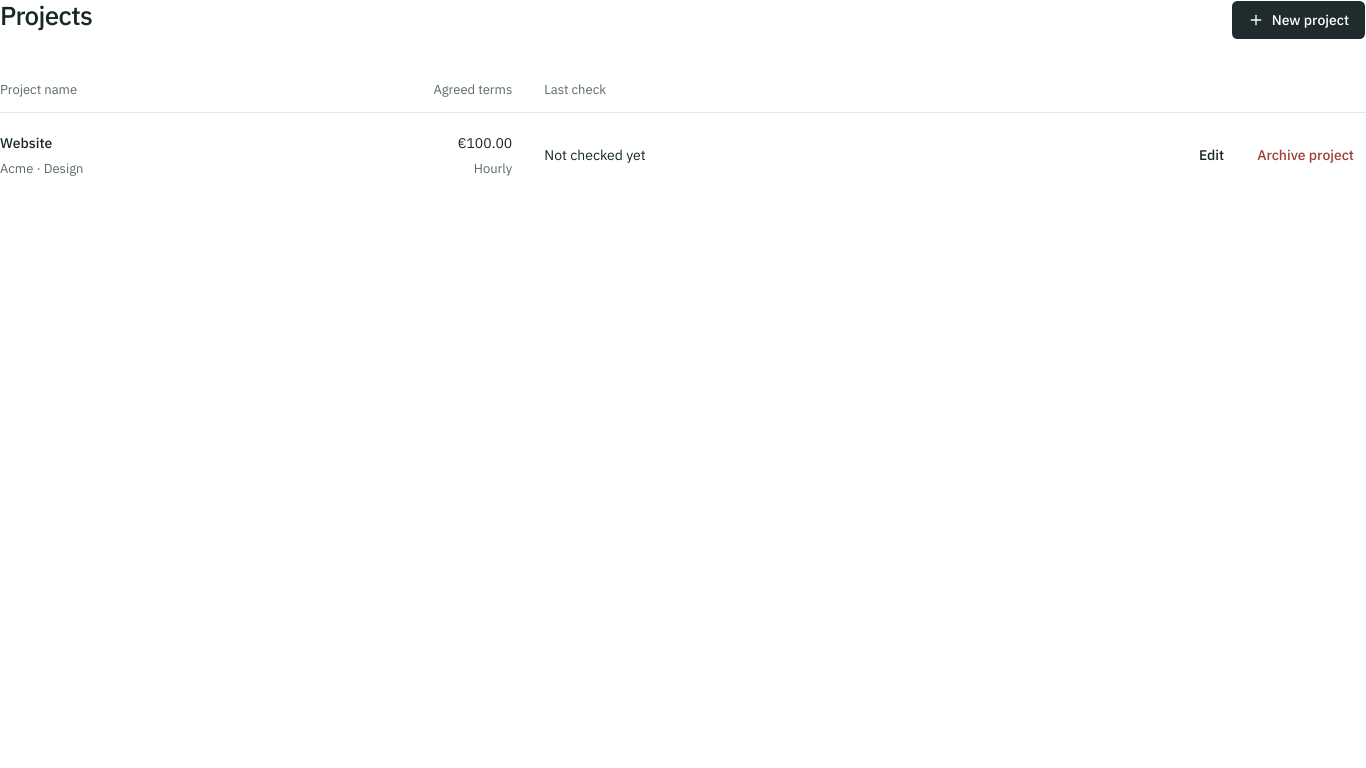
Scenario: disables confirmation while pending and shows a localized error with retry
Later steps or results of the test are not shown.
Click the button "Archive project" at (1306, 155), box x1=1245 y1=137 x2=1365 y2=173
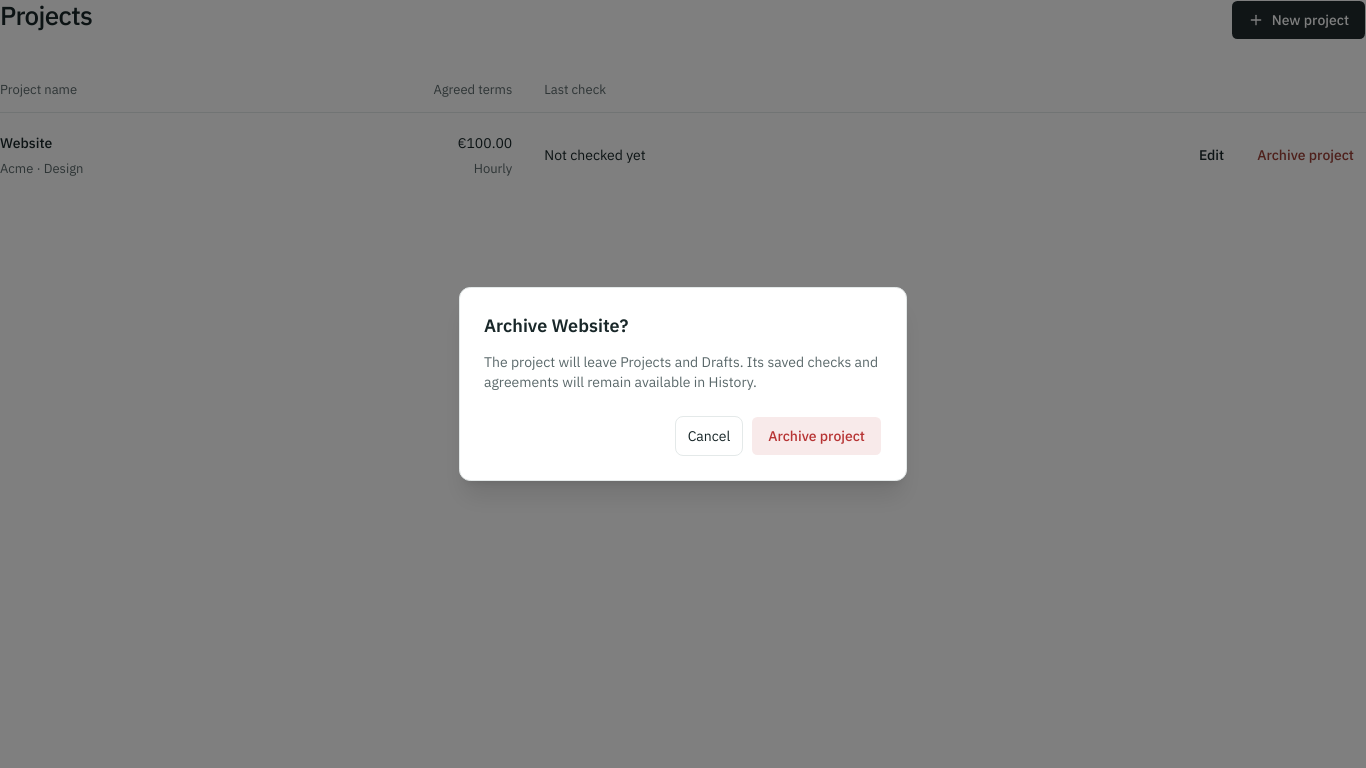
Click the button "Archive project" at (817, 436), box x1=751 y1=416 x2=882 y2=456
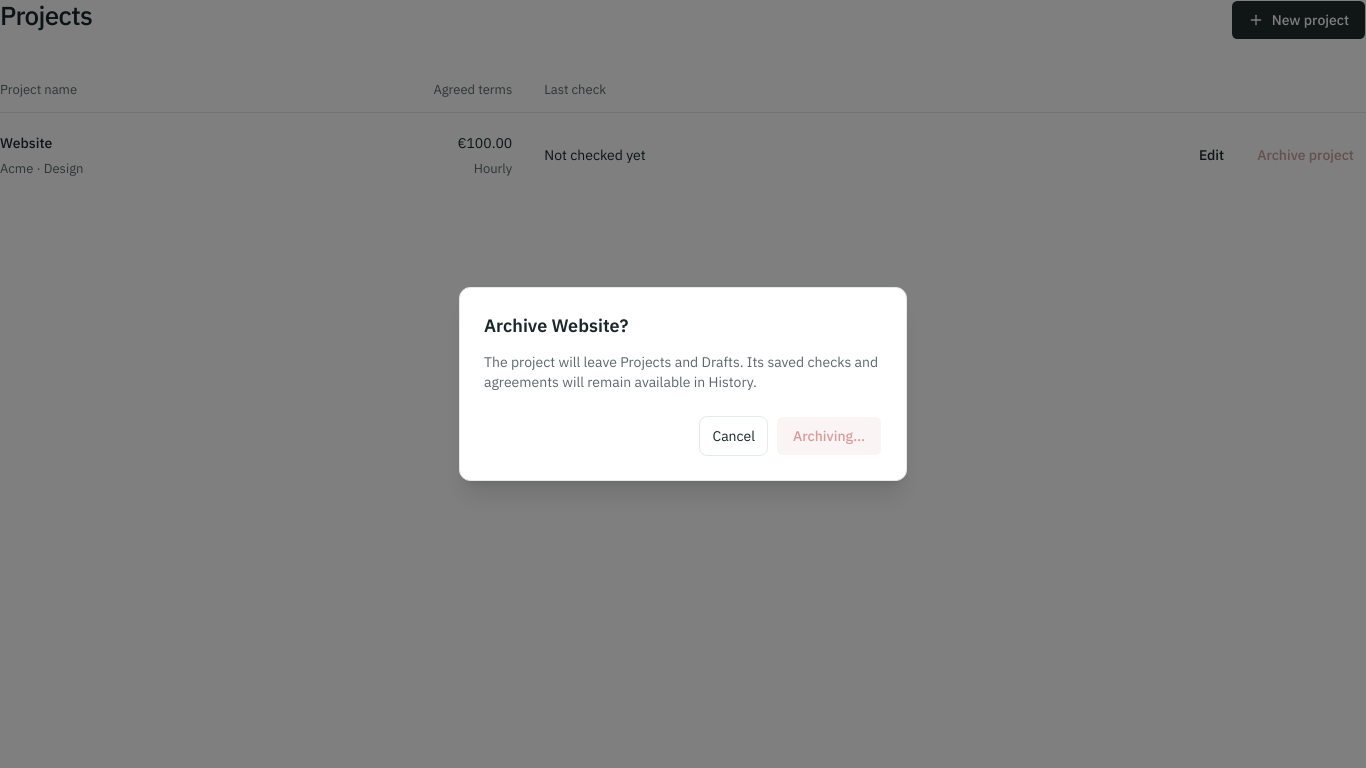
Expected: the button "Archiving…" is disabled
Click the button "Archiving…" at (829, 436), box x1=776 y1=416 x2=882 y2=456
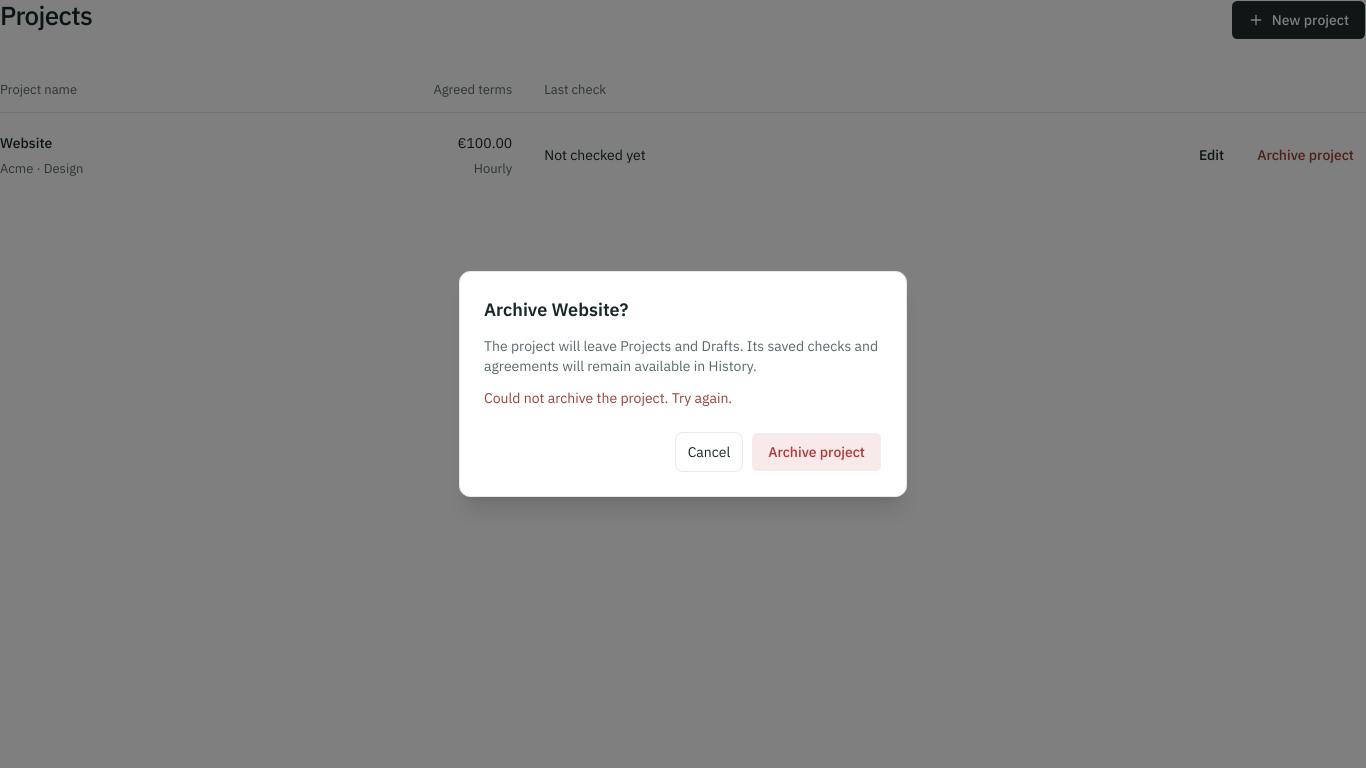
Expected: the message reads "Could not archive the project. Try again.", x1=484 y1=389 x2=732 y2=407
